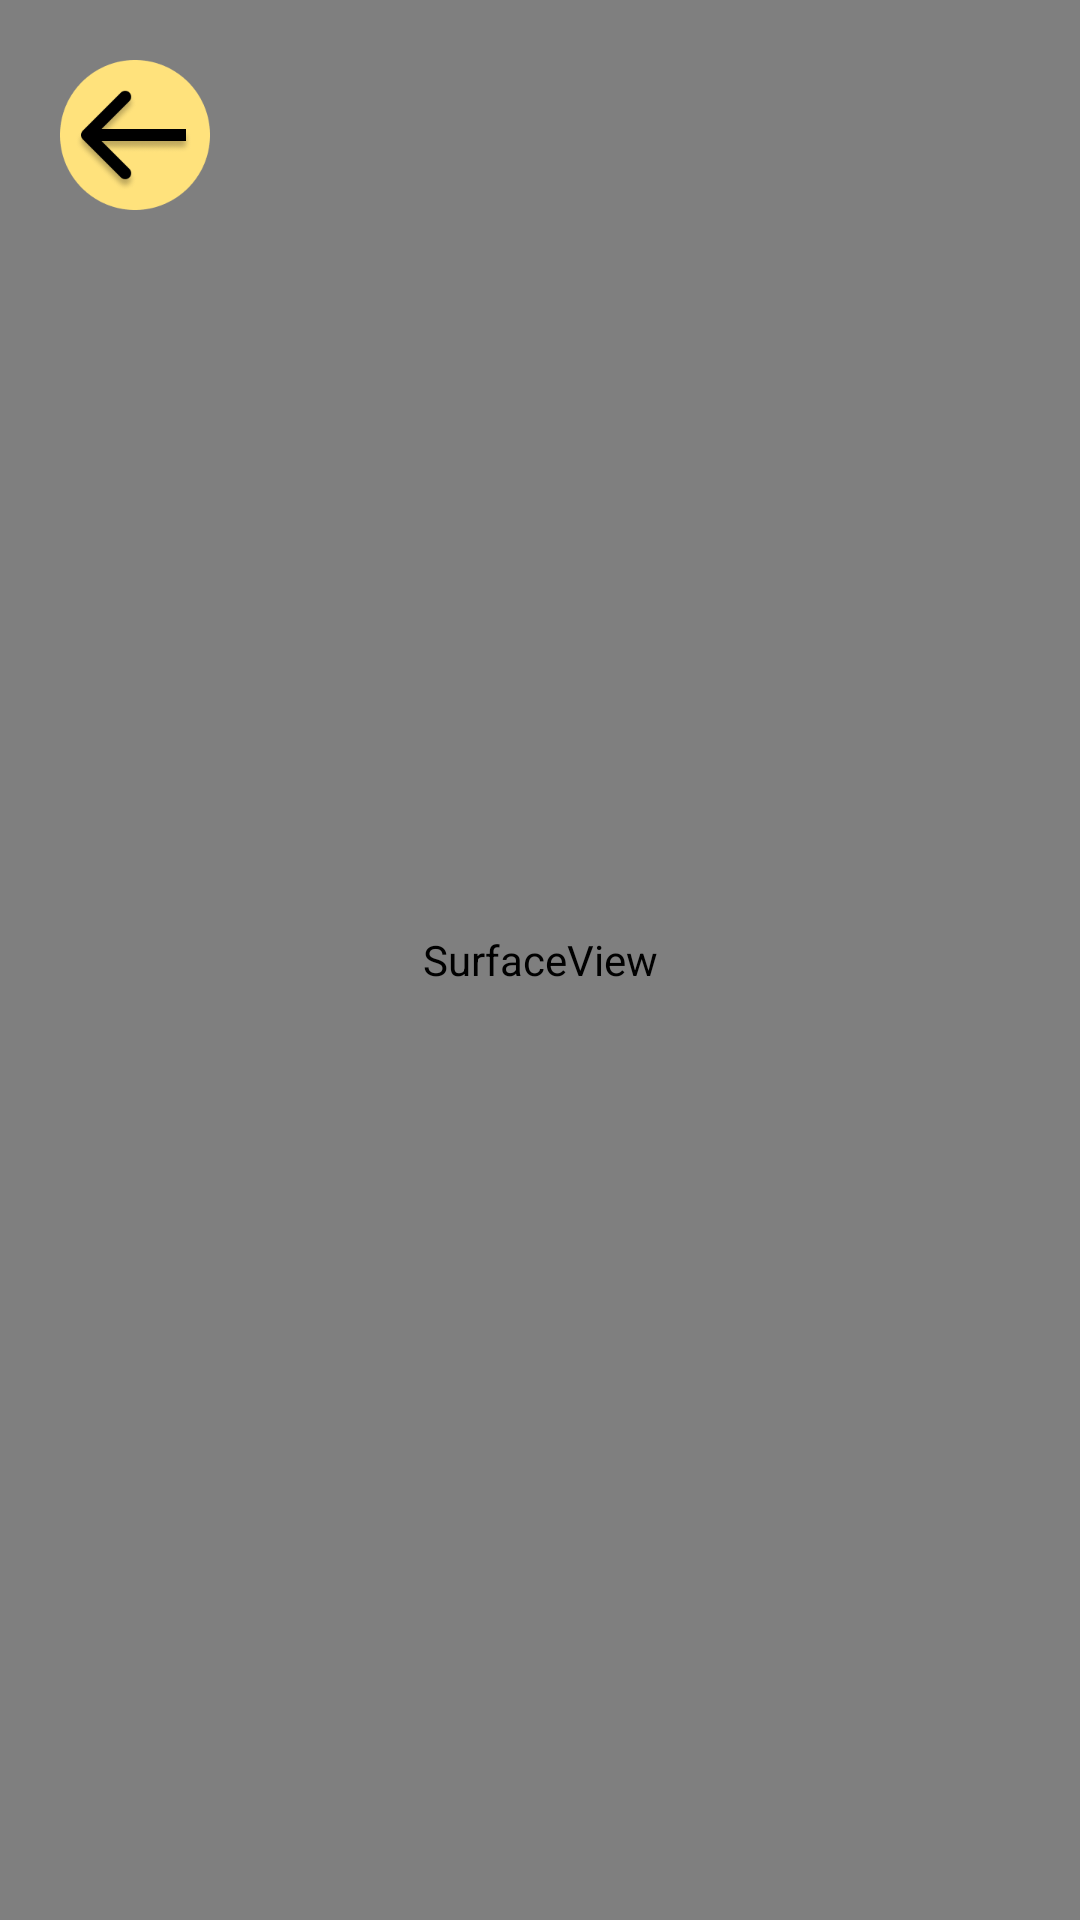

Icon click points for this 1080 × 1920 phone screenshot, format (x=x, y=y):
backbutton mini: (x=135, y=135)
